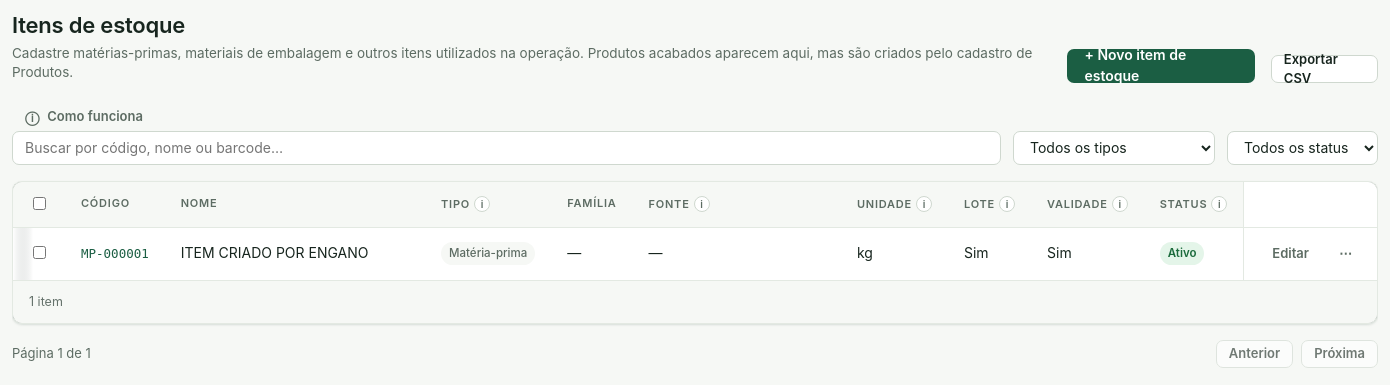
Test case: quem vê › Administrador: o menu da linha tem Excluir definitivamente, além de Inativar
The image size is (1390, 385).
Expected: the text "MP-000001" is shown, [65,227,165,280]
Click the button named "Mais ações de MP-000001" at (1346,254), box [1330,240,1361,268]
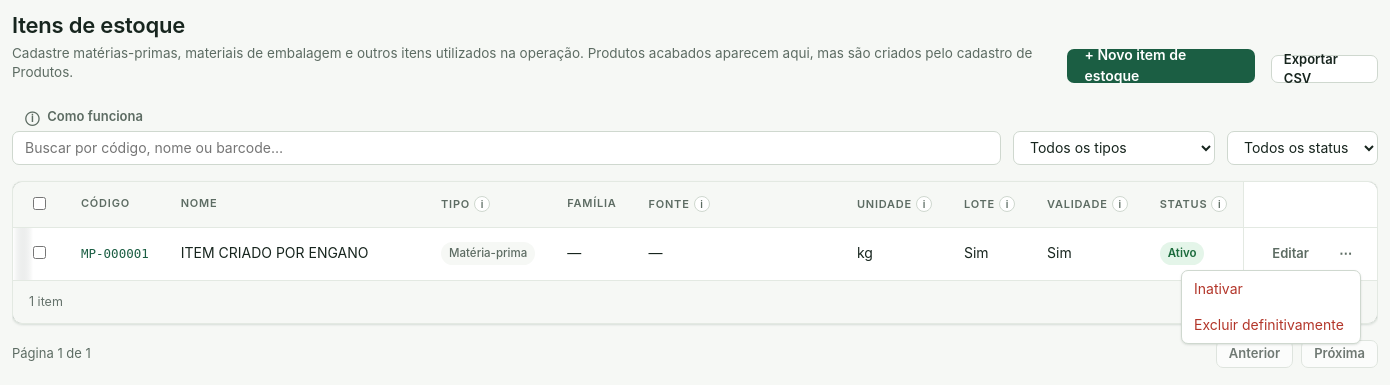
Expected: the menu item "Inativar" is shown, [1182,271,1360,307]
Expected: the menu item "Excluir definitivamente" is shown, [1182,307,1360,343]
